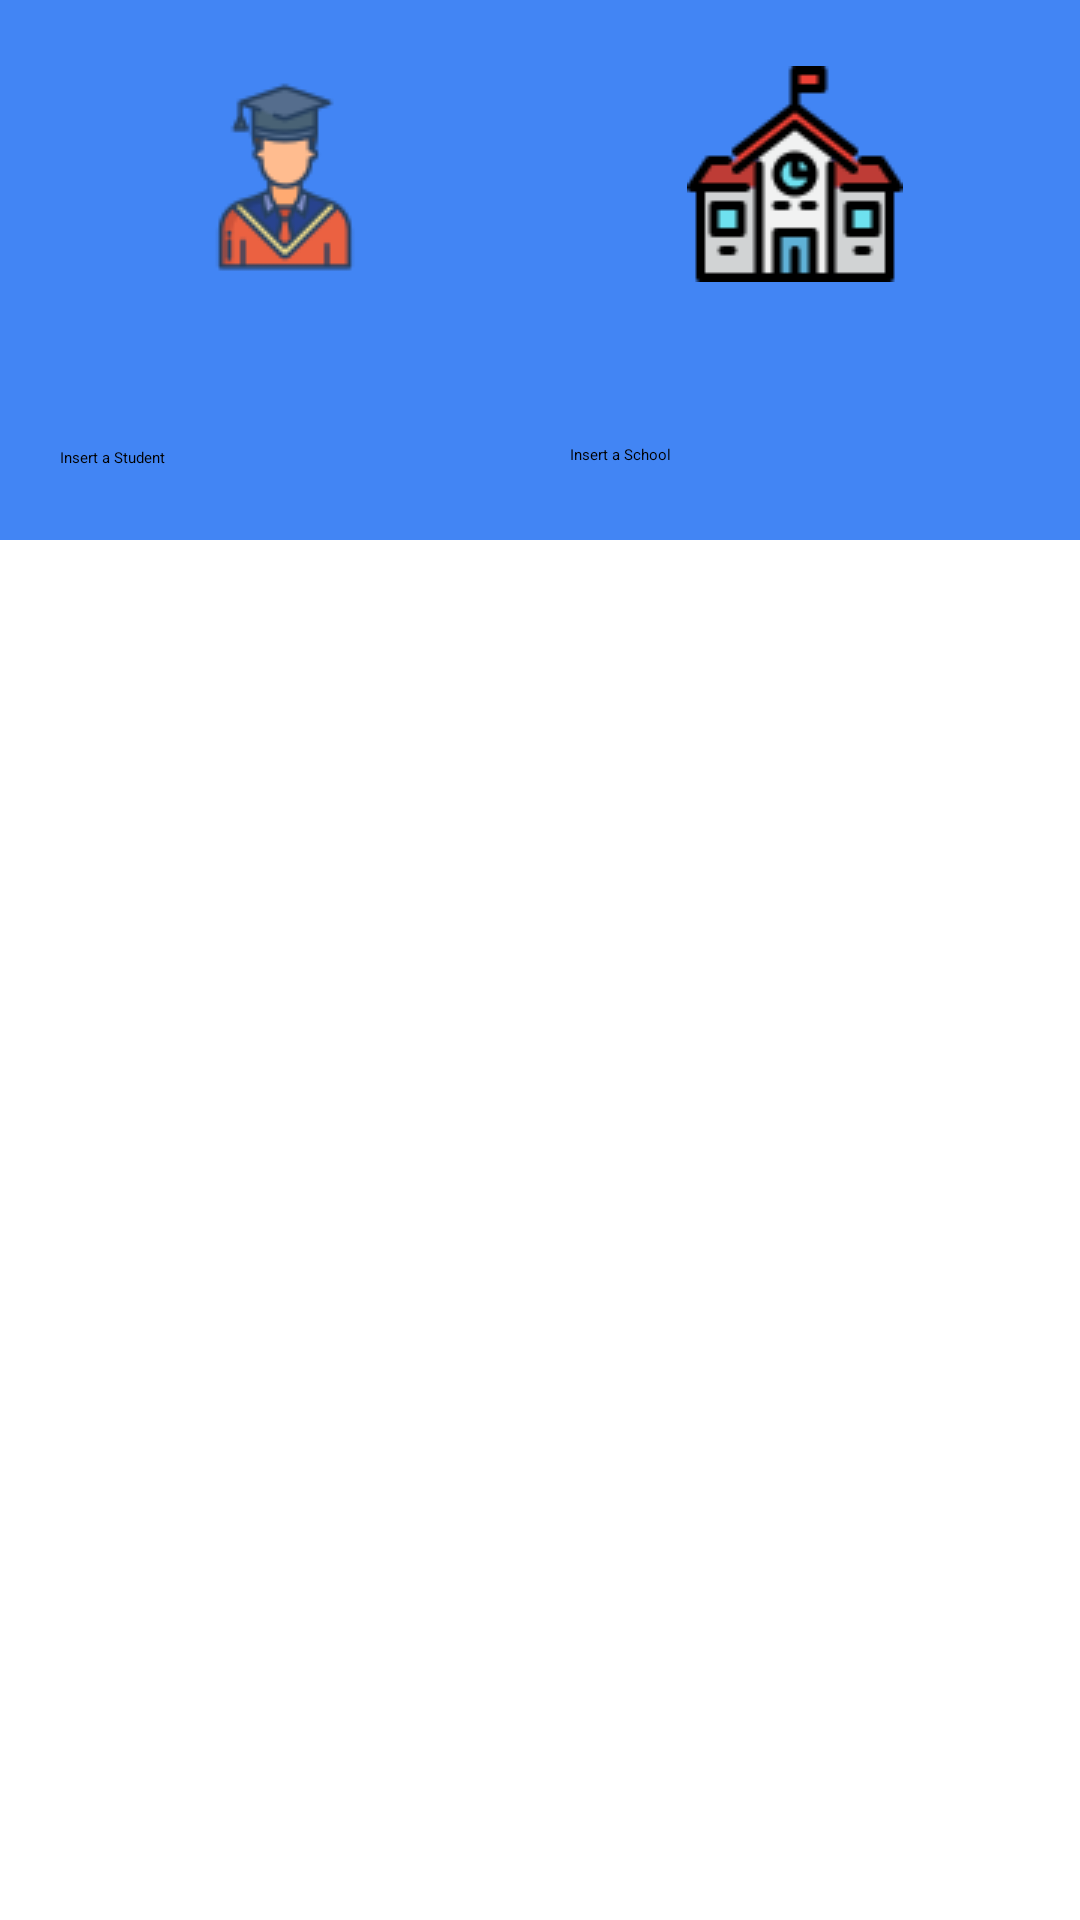

Icons on this 1080*1920 Android screen, each with the point to tap as (x,y):
school: (795,174)
student: (285,177)
